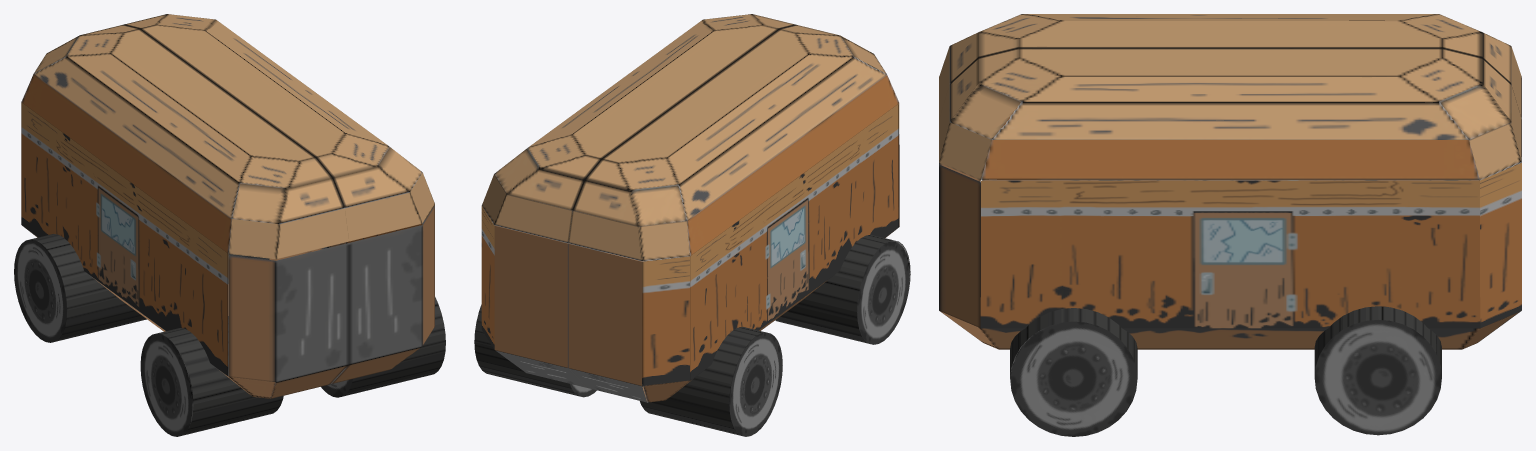
The model's file is van.fbx.
3 views of the same model, side by side, from view 1: azimuth 30°, elevation 25°; view 2: azimuth 150°, elevation 25°; view 3: azimuth 270°, elevation 25° (orthographic). The views are drawn at different scales.
Parts seen in each view (by area): view 1: Cube; view 2: Cube; view 3: Cube.
Part boxes in pixels (bbox=[...]): Cube: bbox=[14, 14, 445, 436]; Cube: bbox=[474, 14, 910, 436]; Cube: bbox=[939, 14, 1521, 436].
Bounding box in the file's own units: 245 × 242 × 407.
